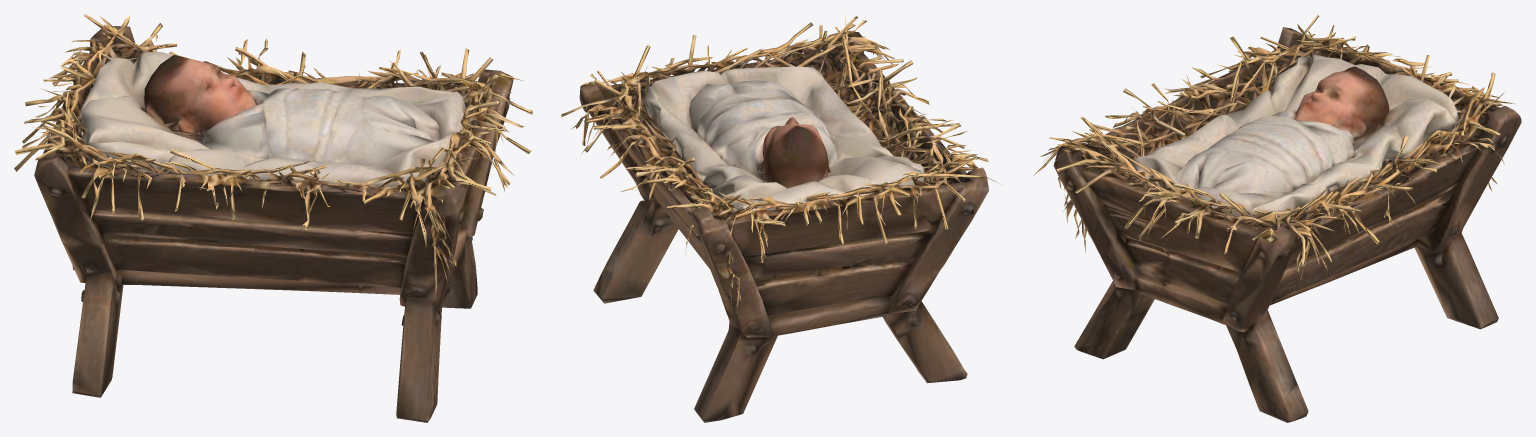
File: jesus-manger-tripo.glb
3 renders of one model, left to right at view 1: azimuth 30°, elevation 25°; view 2: azimuth 150°, elevation 25°; view 3: azimuth 270°, elevation 25°, orthographic. The views are drawn at different scales.
Parts seen in each view (by area): view 1: tripo_node_997ed375-363c-4c88-8b6a-e045f2e40191; view 2: tripo_node_997ed375-363c-4c88-8b6a-e045f2e40191; view 3: tripo_node_997ed375-363c-4c88-8b6a-e045f2e40191.
Boxes of the visible parts, x1,y1,x2,y2 form: tripo_node_997ed375-363c-4c88-8b6a-e045f2e40191: (14, 14, 532, 422); tripo_node_997ed375-363c-4c88-8b6a-e045f2e40191: (561, 15, 1001, 422); tripo_node_997ed375-363c-4c88-8b6a-e045f2e40191: (1033, 14, 1521, 422).
Bounding box in the file's own units: 1.29 × 0.7191 × 1.31.
Materials: 1 (1 with a texture image).
